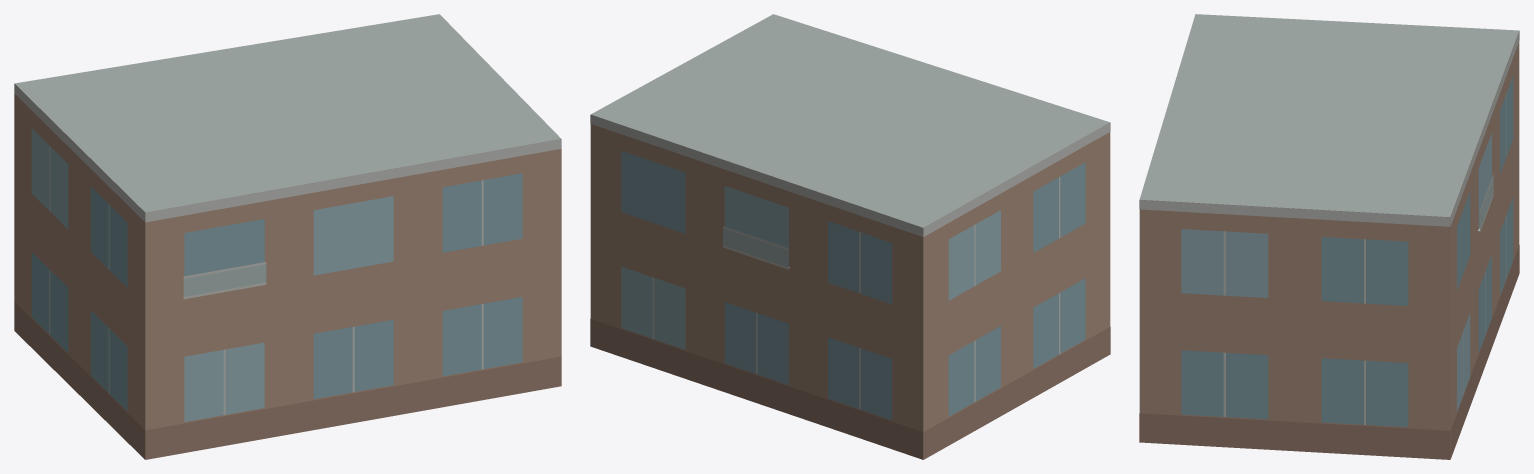
File: survey-upis-32790993.glb
3 views of the same model, side by side, from view 1: azimuth 30°, elevation 25°; view 2: azimuth 150°, elevation 25°; view 3: azimuth 270°, elevation 25° (orthographic). The views are drawn at different scales.
Visible parts, largest first — view 1: survey-upis-32790993.tmp; view 2: survey-upis-32790993.tmp; view 3: survey-upis-32790993.tmp.
Part boxes in pixels (box(x1,y1,x2,y2)): survey-upis-32790993.tmp: box(14, 14, 561, 459); survey-upis-32790993.tmp: box(590, 14, 1110, 459); survey-upis-32790993.tmp: box(1139, 14, 1519, 459).
Size of the model in its own units: 10.96 by 6.1 by 8.67.
